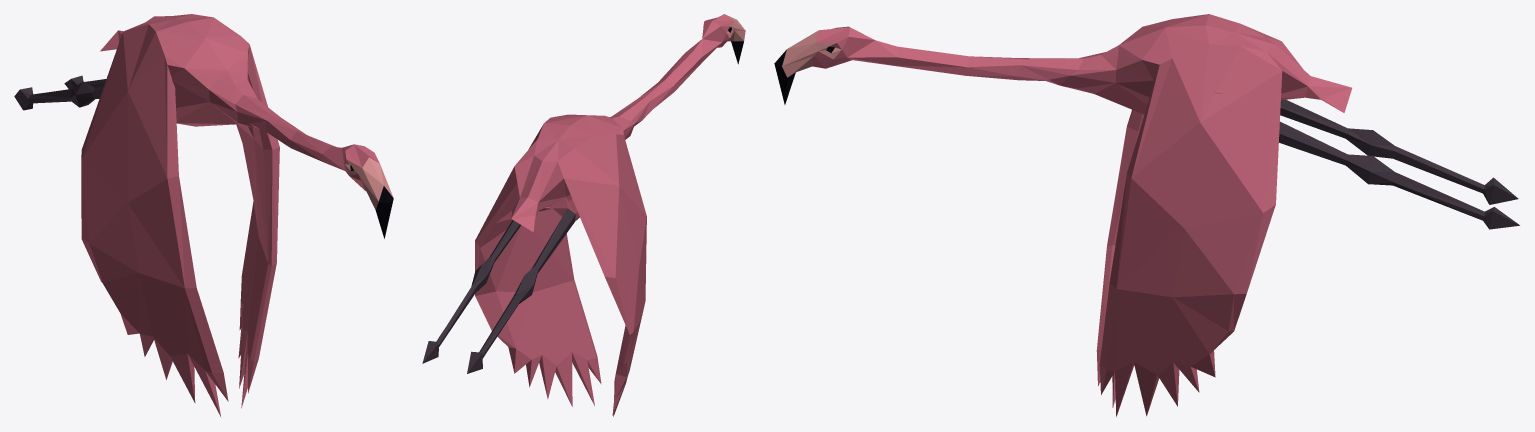
File: Flamingo_pink_v2_long_neck.glb
The picture shows the model from 3 angles, left to right: view 1: azimuth 30°, elevation 25°; view 2: azimuth 150°, elevation 25°; view 3: azimuth 270°, elevation 25°; orthographic projection. The views are drawn at different scales.
Size of the model in its own units: 52.2 by 101 by 177.
